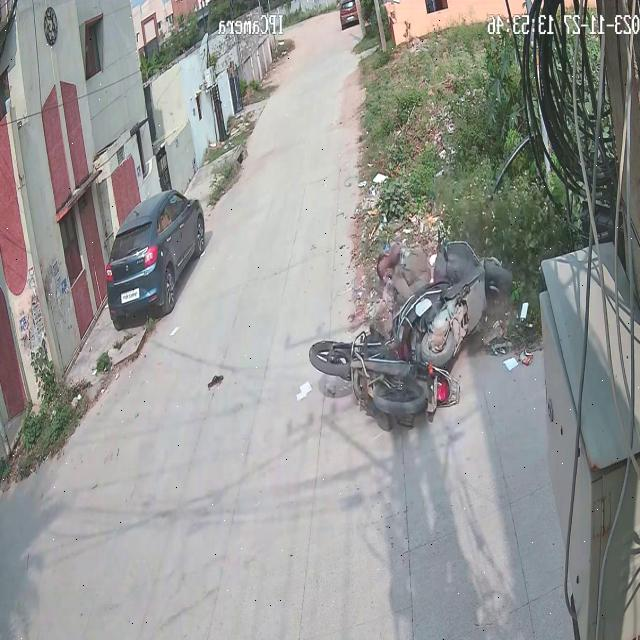accident: (304, 216, 521, 431)
